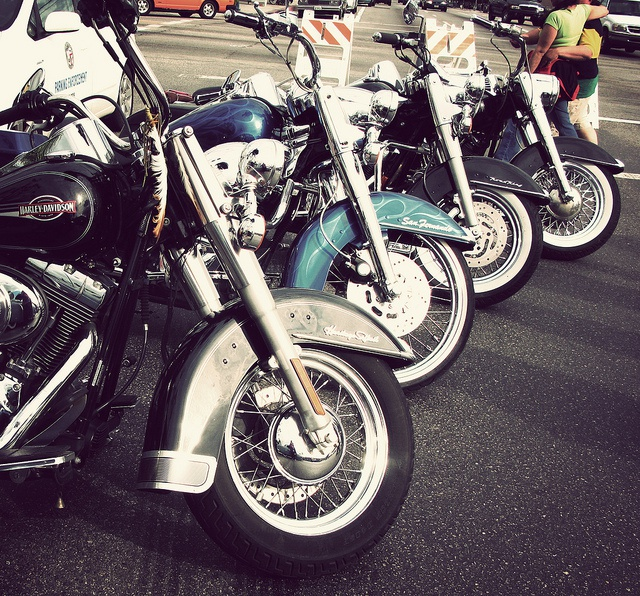non-vehicle: (1, 0, 410, 563), (194, 8, 476, 385), (368, 1, 562, 309), (466, 17, 626, 257)
